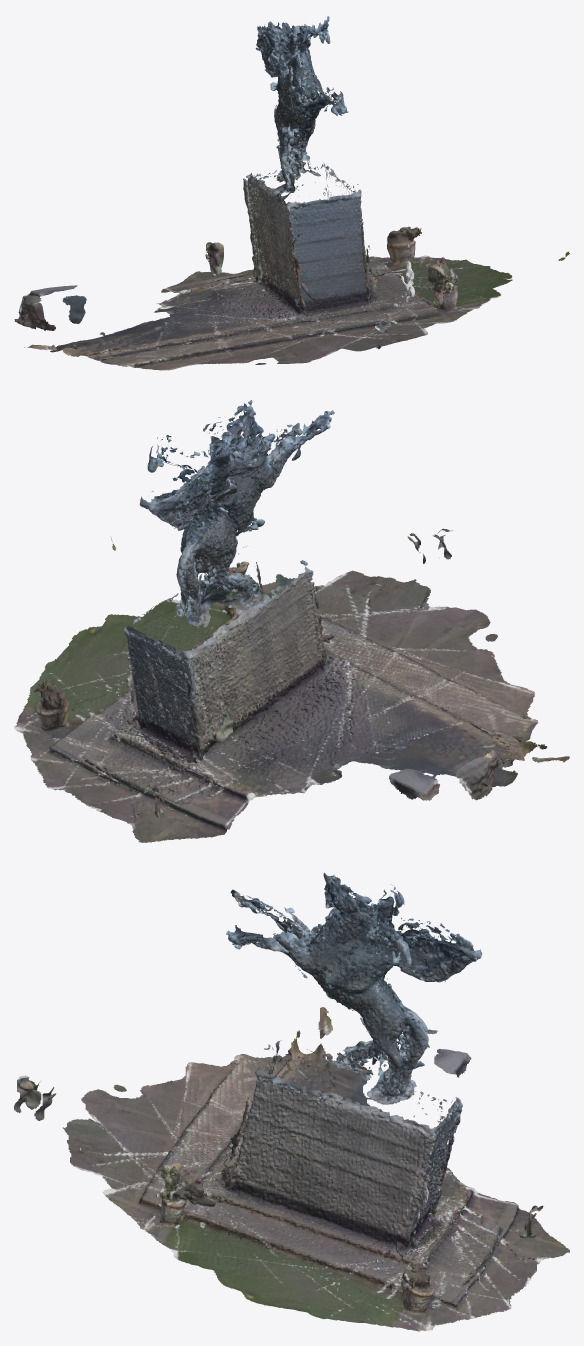
Rendered from diponegoro-monas-30.glb.
3 views of the same model, one above another, from view 1: azimuth 30°, elevation 25°; view 2: azimuth 150°, elevation 25°; view 3: azimuth 270°, elevation 25° (orthographic). The views are drawn at different scales.
Visible parts, largest first — view 1: geometry_0; view 2: geometry_0; view 3: geometry_0.
Boxes of the visible parts, x1,y1,x2,y2 form: geometry_0: (14,16,569,370); geometry_0: (14,400,569,842); geometry_0: (14,872,569,1331).
Size of the model in its own units: 1.42 by 0.9028 by 1.19.
